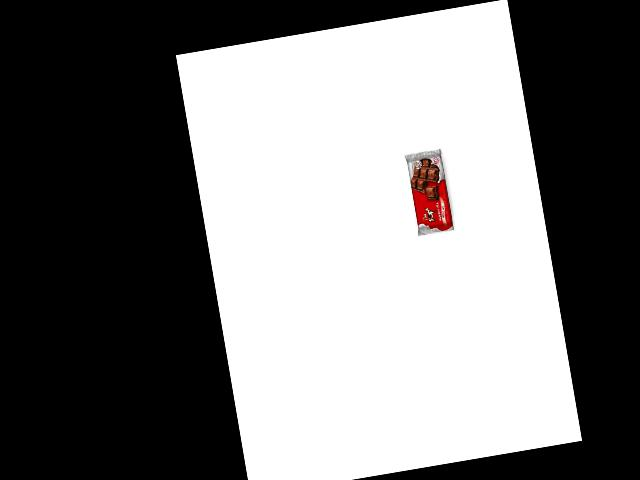chocolate: (403, 146, 454, 237)
